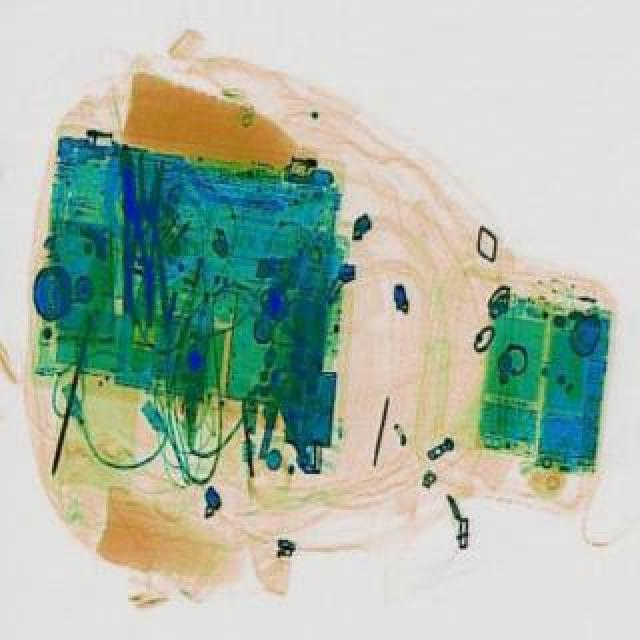wrench: (112, 140, 152, 324)
